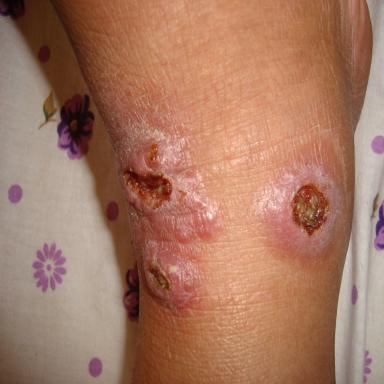Leishmanios: (109, 118, 222, 311), (259, 162, 341, 262)
